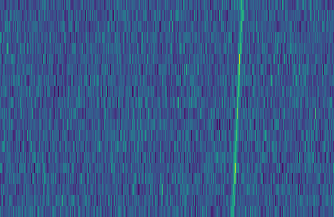signal: (229, 0, 248, 217)
